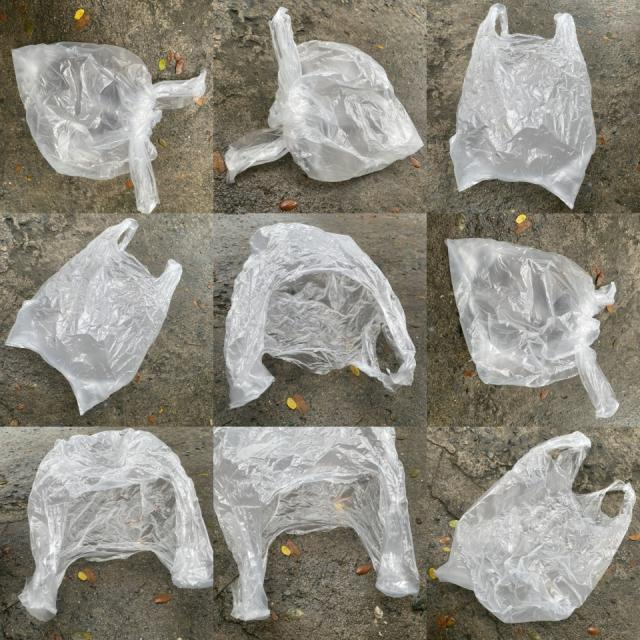Single-layer Plastic: (214, 428, 420, 620), (435, 431, 635, 622), (19, 429, 212, 621), (224, 222, 415, 407), (6, 219, 181, 414), (226, 8, 422, 182), (13, 41, 206, 213), (446, 239, 619, 417), (450, 4, 596, 208)
